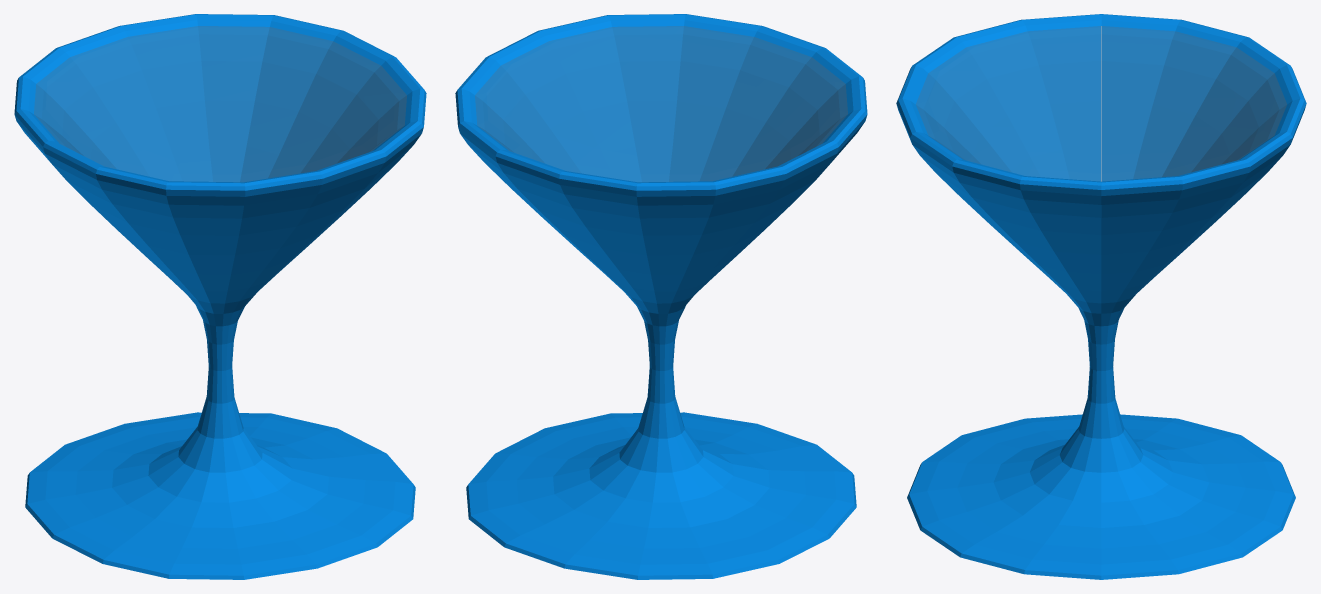
The model's file is напитки.fbx.
3 views of the same model, side by side, from view 1: azimuth 30°, elevation 25°; view 2: azimuth 150°, elevation 25°; view 3: azimuth 270°, elevation 25° (orthographic).
Visible parts, largest first — view 1: Cube; view 2: Cube; view 3: Cube.
Part boxes in pixels (<box>): Cube: <box>14,14,426,579</box>; Cube: <box>455,14,867,579</box>; Cube: <box>896,14,1306,579</box>.
Bounding box in the file's own units: 181 × 199 × 181.
